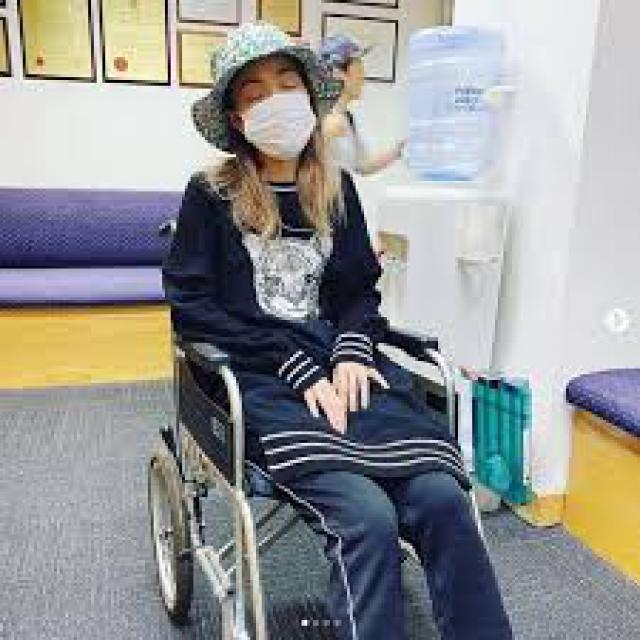wheelchairs: (125, 214, 461, 632)
